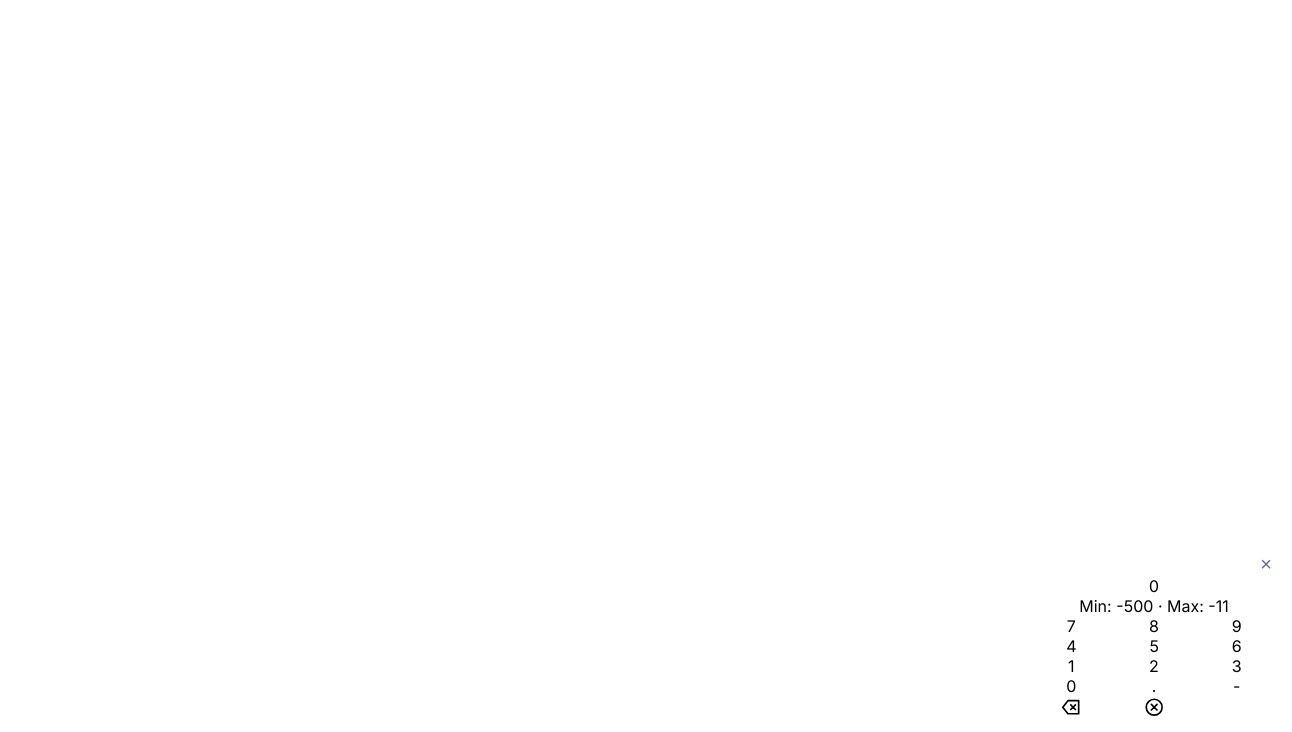
VirtualNumpad › says the widget's own words when it gives them, beside the range
Step 1. Type "-5" into the field with class "hmi-virtual-input__field" → (1154, 586), box [1030,576,1278,596]
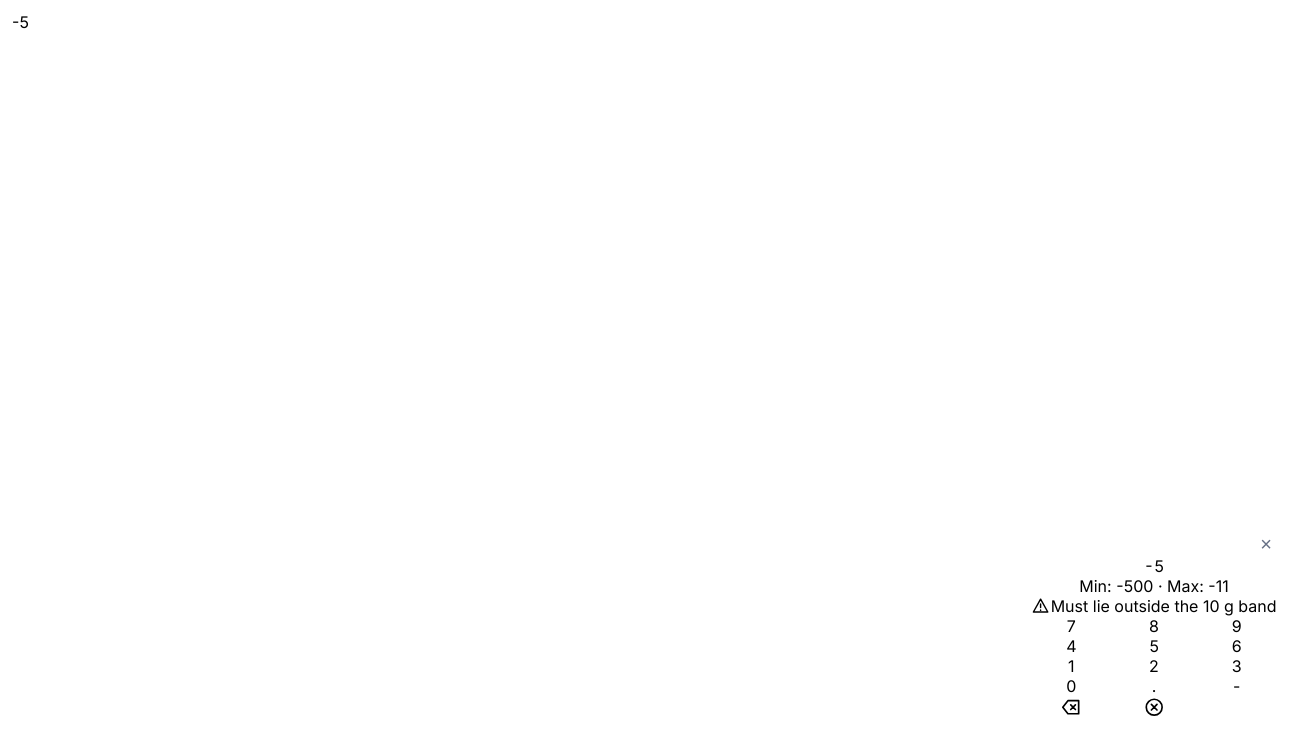
Result: the message reads "Must lie outside the 10 g band" at [1051,596,1277,616]
